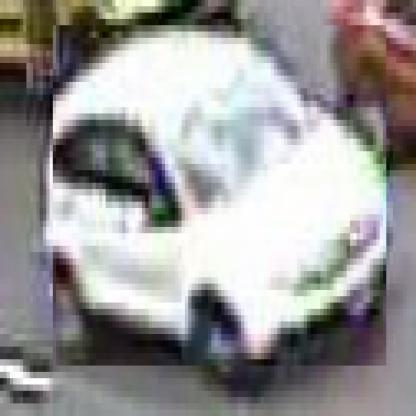car: (54, 26, 391, 373)
